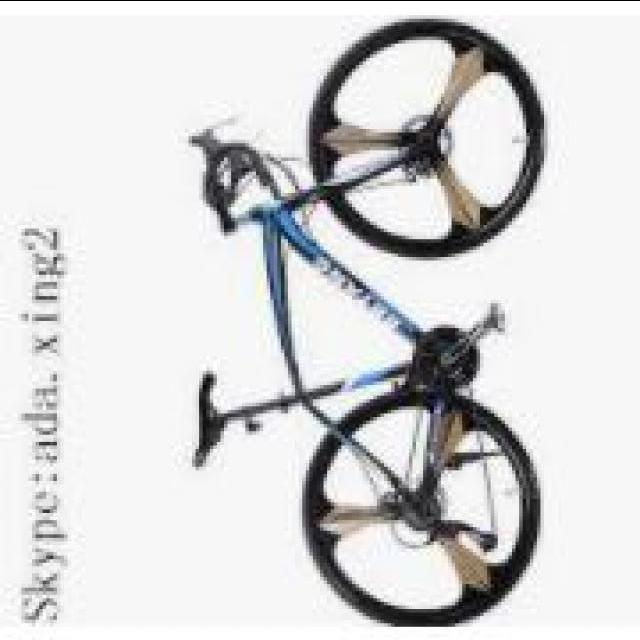bicycle: (168, 18, 566, 630)
